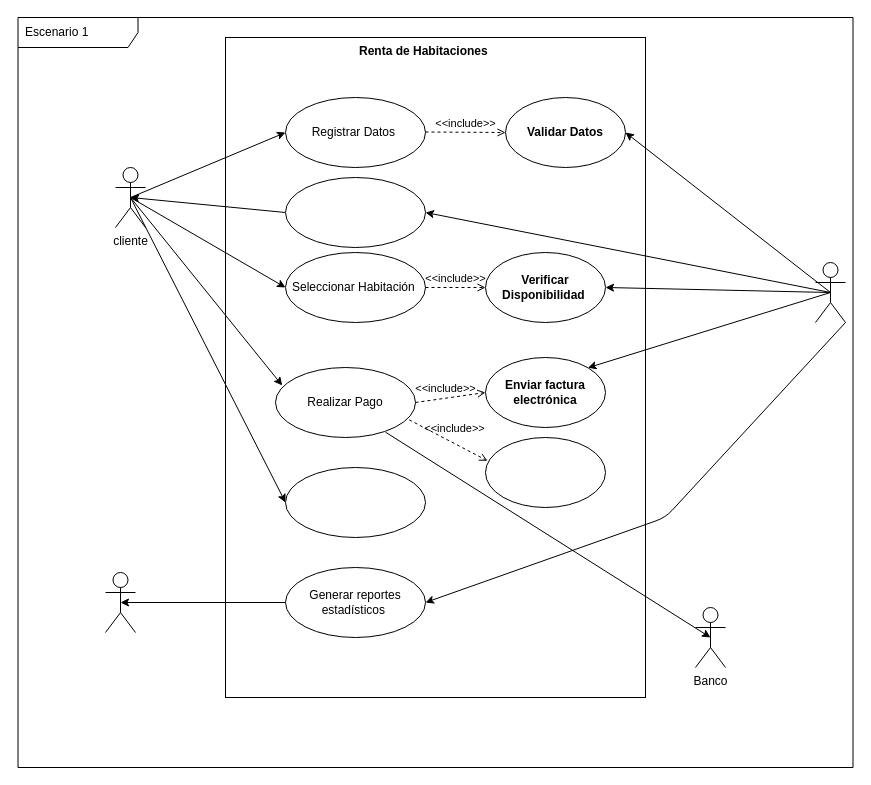
Image size: 871x785. Some labels were removed from this diagram. The shapes that lost their labels are listed below. From the top down, each one's centre as x and y in pixels, then its label:
At [355,212]: "Presentar Catálogo de habitaciones".
At [830,292]: "sistema".
At [545,472]: "Generar Código QR".
At [355,502]: "Consultar compras realizadas".
At [120,602]: "Administrador Programa".
